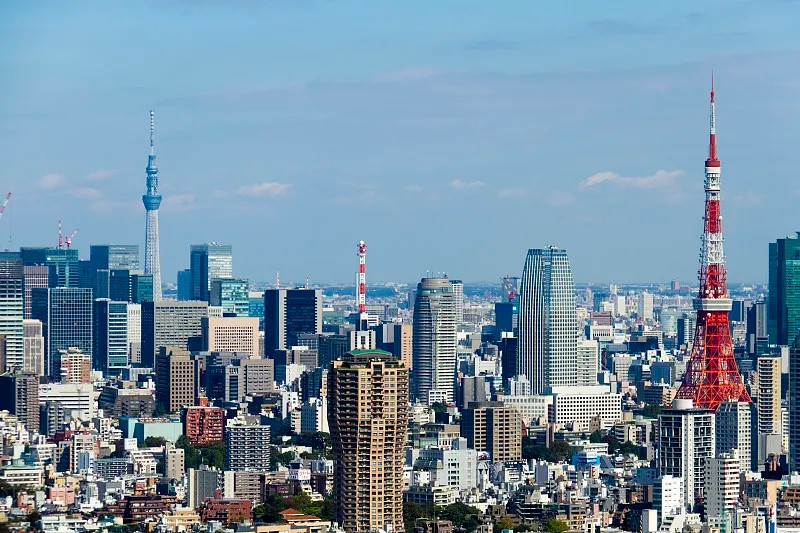Tokyo: (668, 65, 754, 406)
